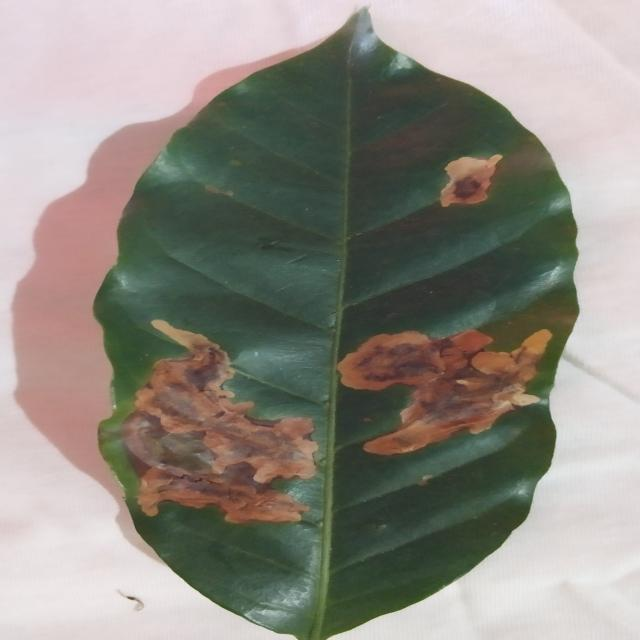Plaga-Minador: (105, 8, 580, 640)
